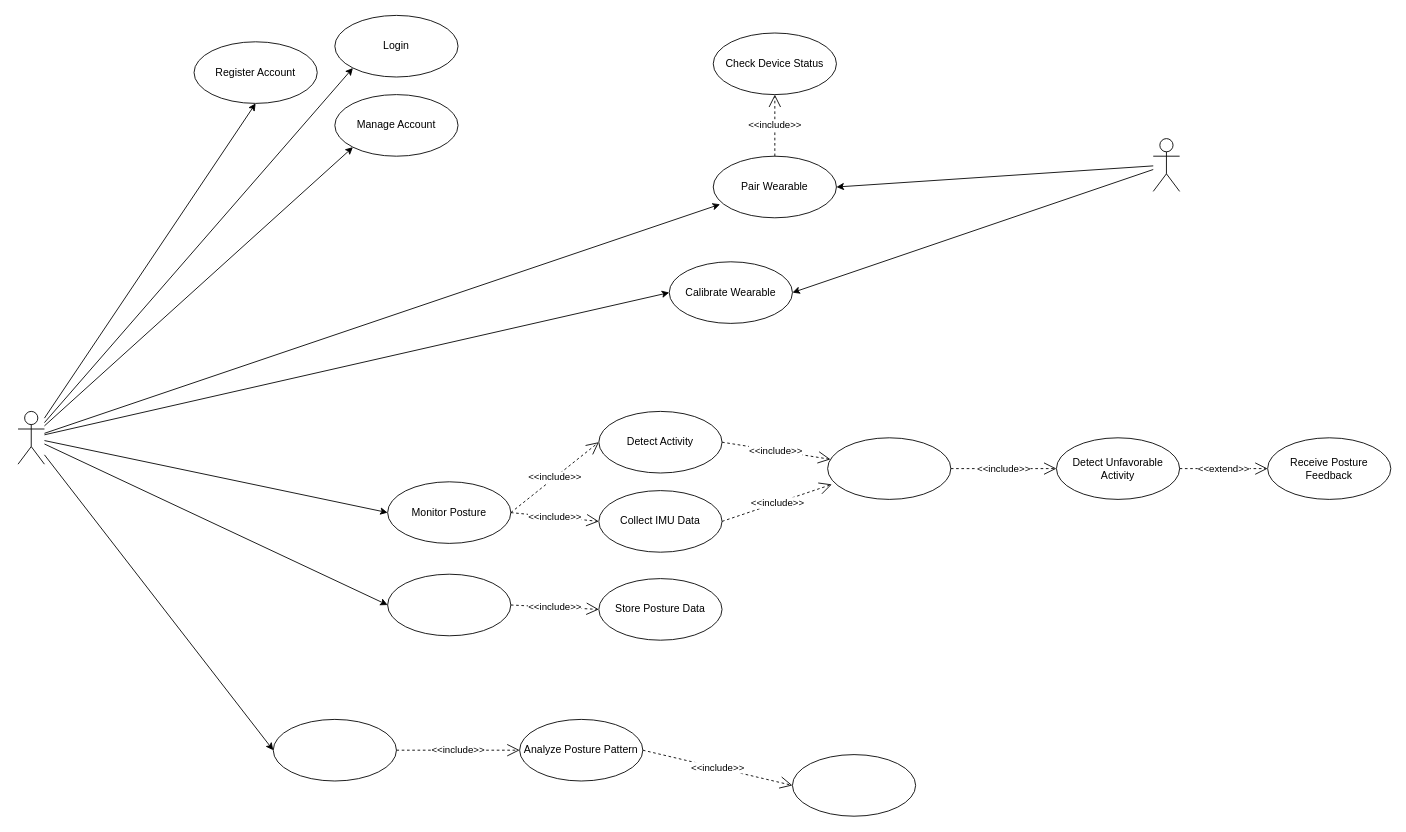
Some shapes in this 1406 by 832 pixel diagram are drawn without their labels. The centre of each missing label's shape, as x and y in pixels:
Analyze Poture: (x=889, y=468)
Generated Personalized Exercise: (x=854, y=785)
Get Exercise Recomendation: (x=334, y=750)
IMU Sensor: (x=1166, y=164)
Patient: (x=30, y=437)
View Posture Analytics & History: (x=449, y=604)
